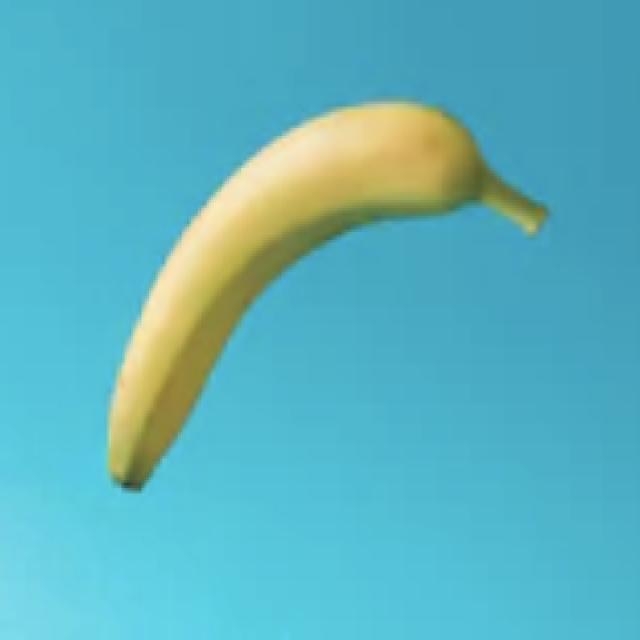banana: (109, 102, 546, 487)
